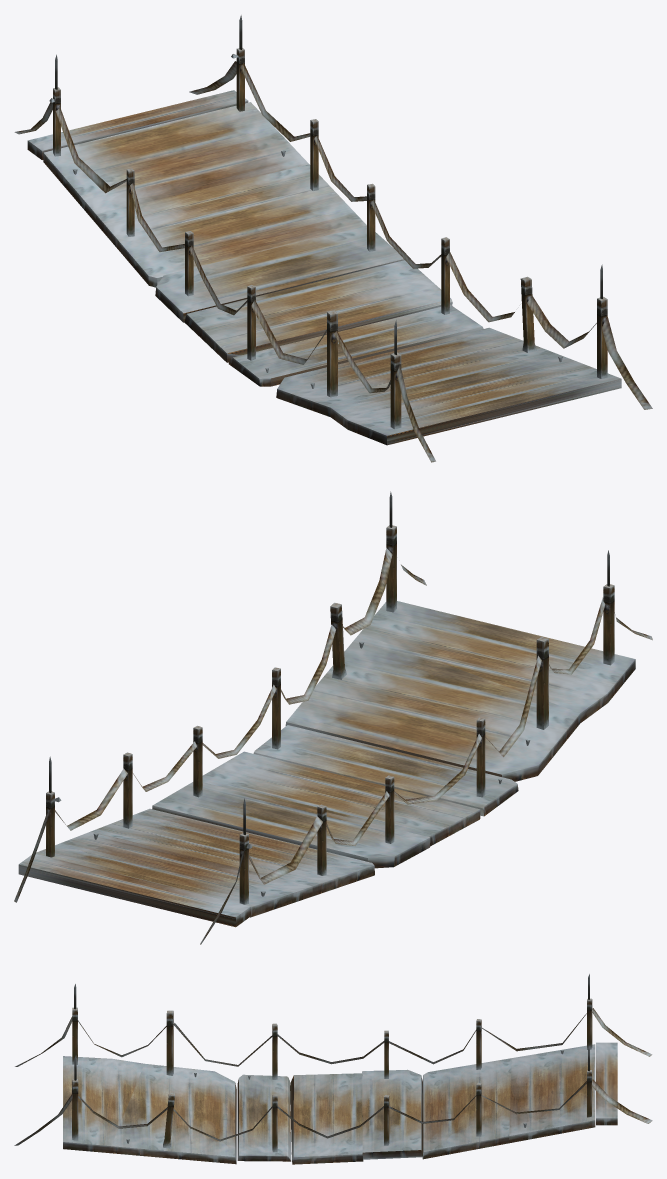
Rendered from rzjd_diaoqiao_01.FBX.
3 views of the same model, one above another, from view 1: azimuth 30°, elevation 25°; view 2: azimuth 150°, elevation 25°; view 3: azimuth 270°, elevation 25° (orthographic). The views are drawn at different scales.
Parts seen in each view (by area): view 1: rzjd_diaoqiao_01; view 2: rzjd_diaoqiao_01; view 3: rzjd_diaoqiao_01.
Boxes of the visible parts, <box> form: rzjd_diaoqiao_01: <box>14,15,652,462</box>; rzjd_diaoqiao_01: <box>14,491,652,944</box>; rzjd_diaoqiao_01: <box>14,974,652,1164</box>.
Bounding box in the file's own units: 414 × 1254 × 257.
